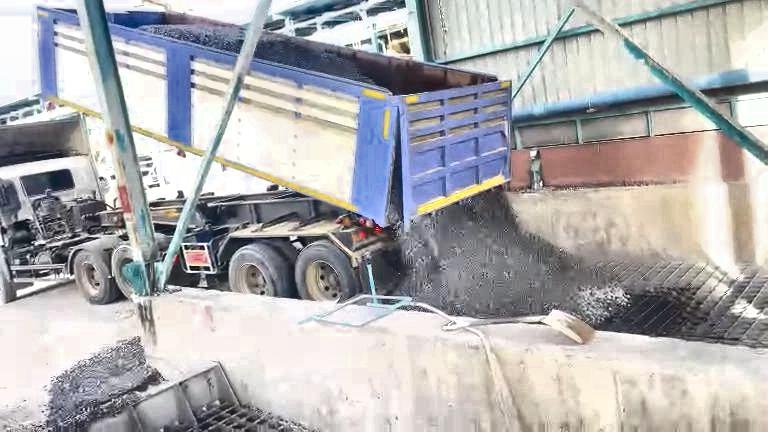gravel: (394, 190, 628, 324), (45, 338, 162, 429), (255, 32, 378, 84), (140, 25, 244, 52)
